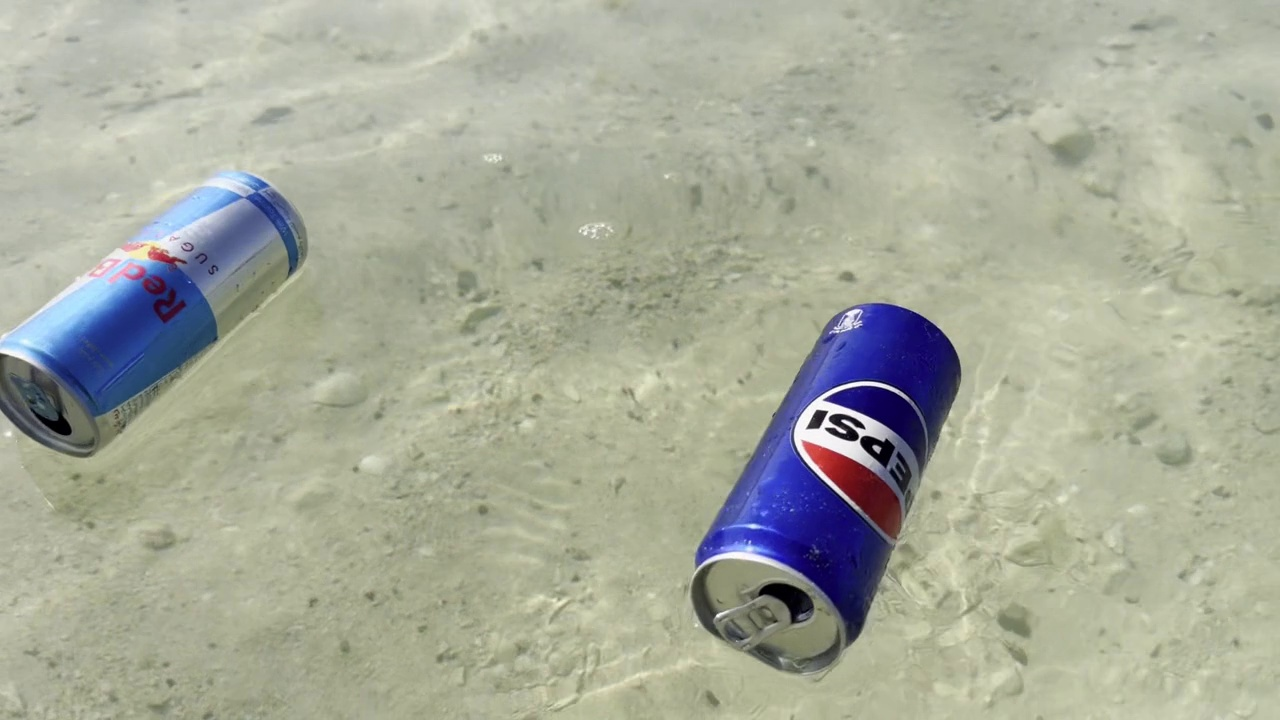debris: (678, 287, 969, 671), (0, 152, 329, 466)
